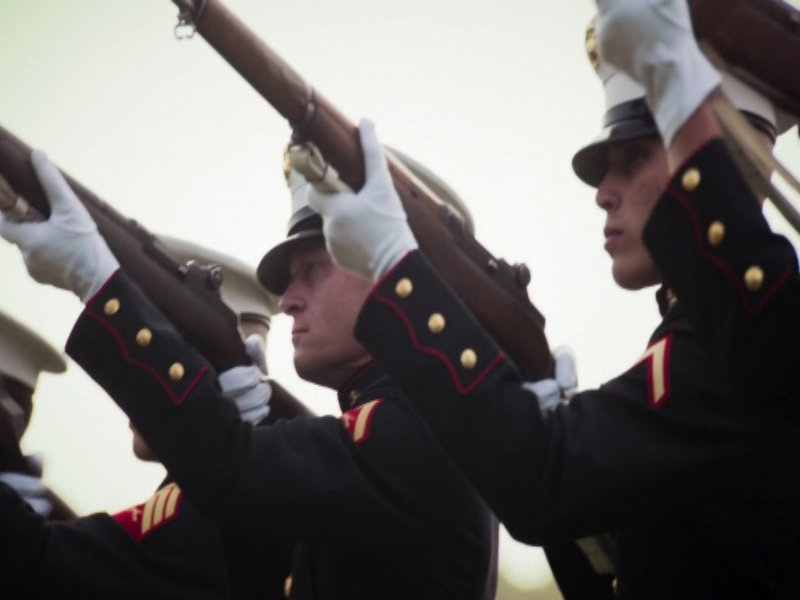person: (303, 5, 798, 594), (9, 114, 504, 594)
weapon: (165, 1, 632, 570), (1, 123, 345, 464)
